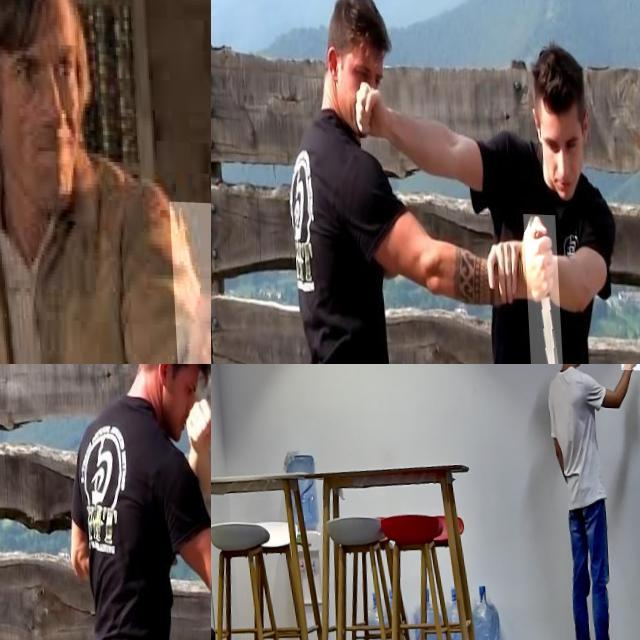-: (520, 209, 559, 364)
gun-knife-thesis - v11 Yolov5 augmented: (617, 364, 640, 394)
